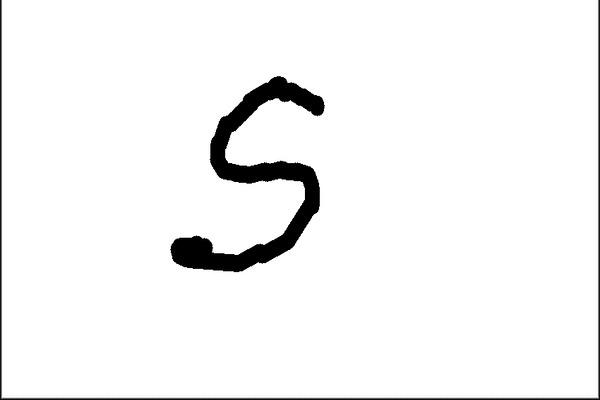S: (160, 71, 345, 293)
